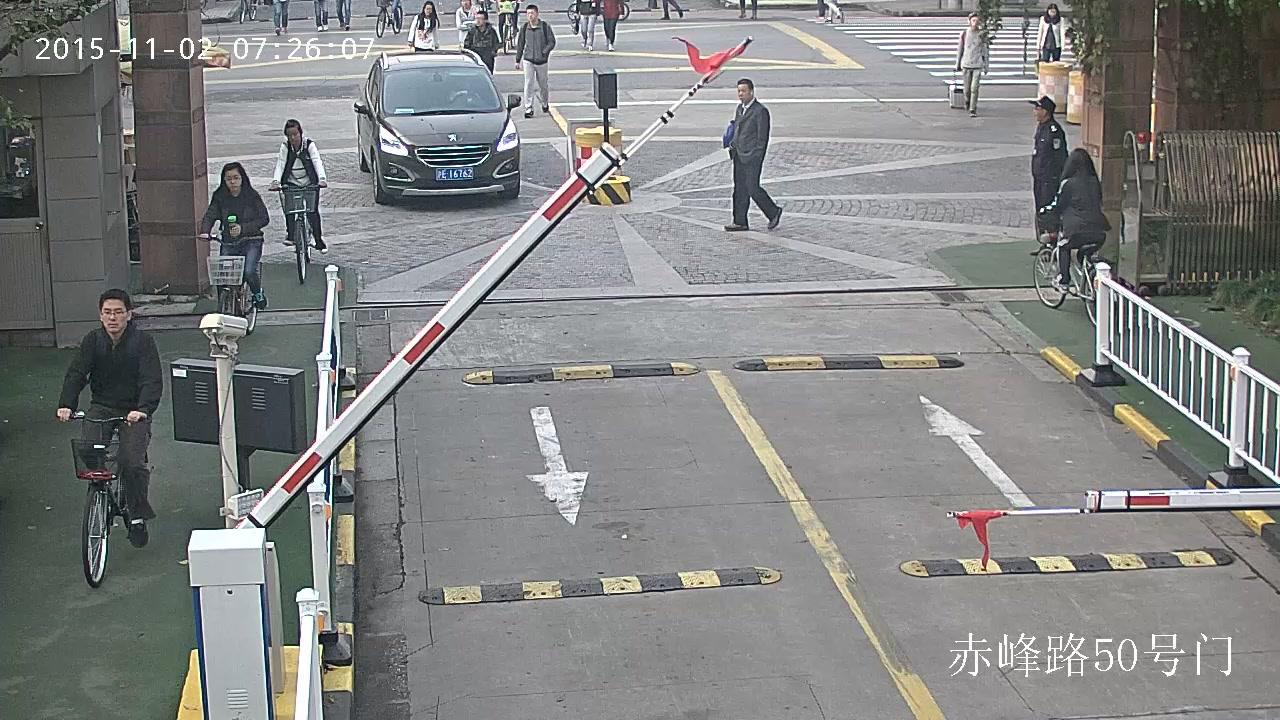face: (102, 298, 126, 331), (225, 169, 240, 189), (286, 127, 300, 145), (738, 84, 750, 102), (1034, 106, 1042, 121), (476, 13, 485, 26), (527, 9, 536, 20), (423, 4, 431, 16), (970, 16, 978, 27), (461, 0, 470, 7), (1049, 8, 1055, 16)
